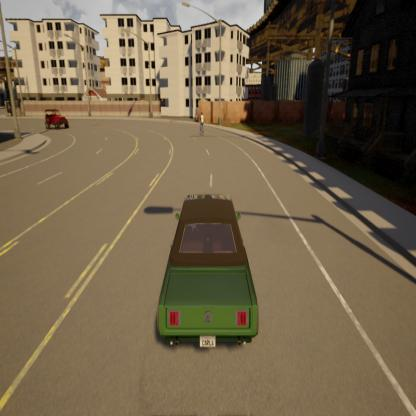Cars: (151, 188, 264, 359), (43, 106, 72, 138)
